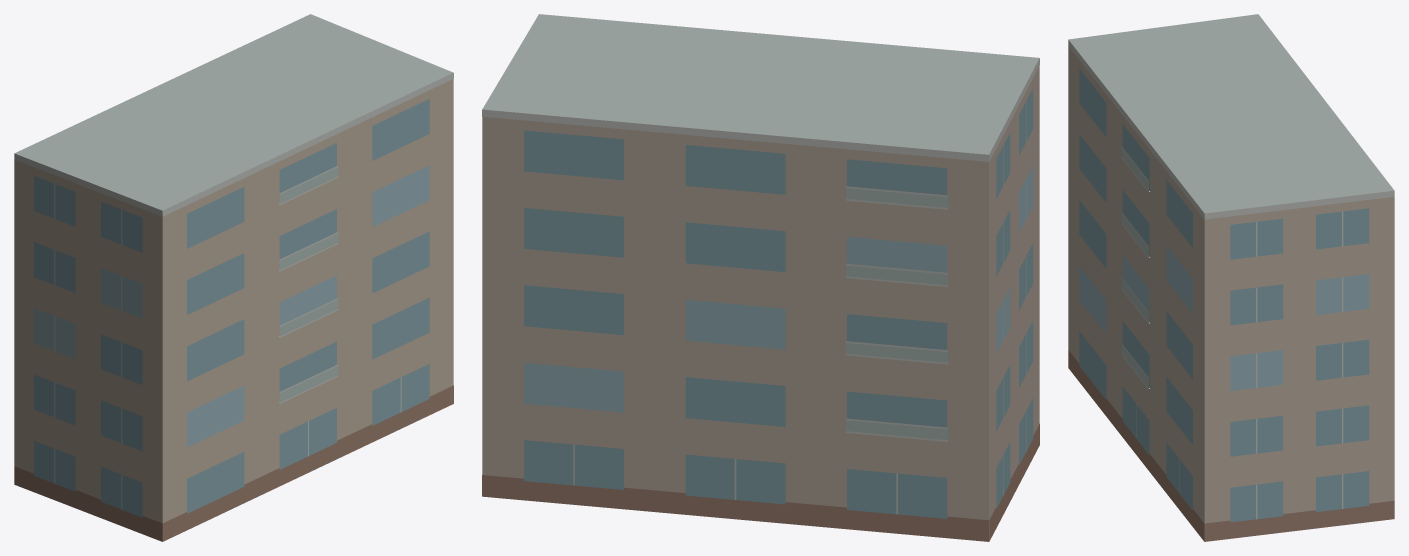
The model's file is survey-upis-32929842.glb.
The picture shows the model from 3 angles, left to right: view 1: azimuth 30°, elevation 25°; view 2: azimuth 150°, elevation 25°; view 3: azimuth 270°, elevation 25°; orthographic projection. The views are drawn at different scales.
Visible parts, largest first — view 1: survey-upis-32929842.tmp; view 2: survey-upis-32929842.tmp; view 3: survey-upis-32929842.tmp.
Part boxes in pixels (x1,y1,x2,y2): survey-upis-32929842.tmp: (14,14,453,541); survey-upis-32929842.tmp: (482,14,1039,541); survey-upis-32929842.tmp: (1068,14,1394,541).
Size of the model in its own units: 17.21 by 13.2 by 11.9.
